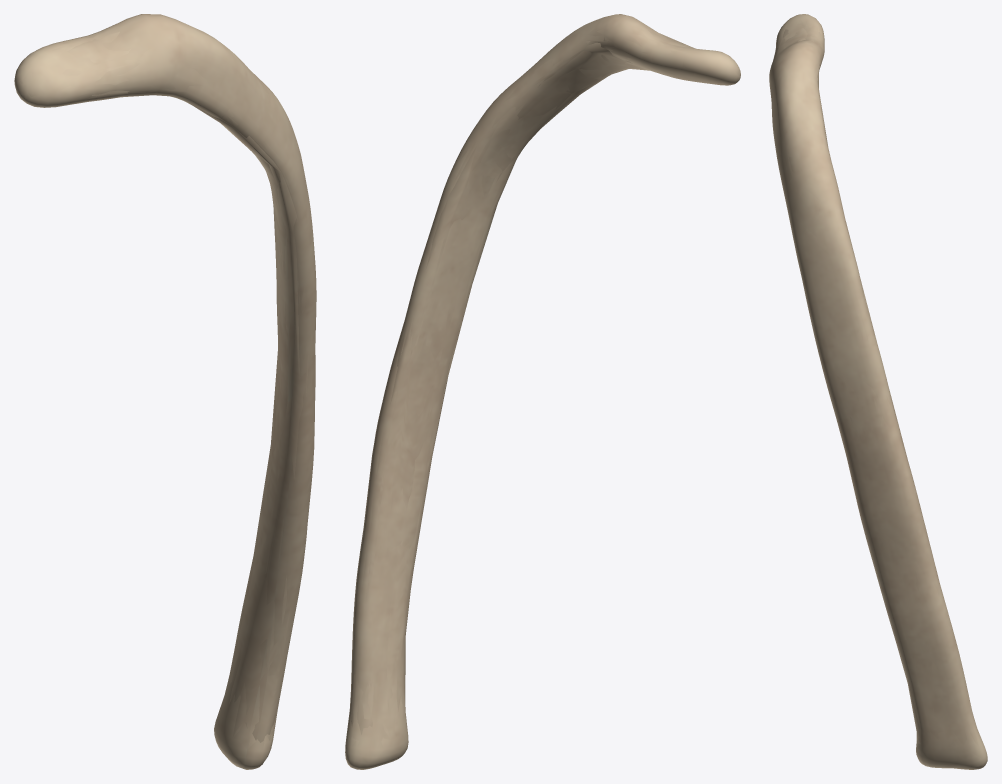
Rendered from Rib L04.fbx.
3 views of the same model, side by side, from view 1: azimuth 30°, elevation 25°; view 2: azimuth 150°, elevation 25°; view 3: azimuth 270°, elevation 25° (orthographic). The views are drawn at different scales.
Parts seen in each view (by area): view 1: Rib L04, Rib L04 high, Rib L04 low; view 2: Rib L04, Rib L04 high, Rib L04 low; view 3: Rib L04 high, Rib L04, Rib L04 low.
Boxes of the visible parts, box(x1,y1,x2,y2) form: Rib L04: box(14, 14, 315, 769); Rib L04 high: box(15, 14, 316, 769); Rib L04 low: box(62, 31, 308, 742); Rib L04: box(345, 14, 740, 769); Rib L04 high: box(345, 14, 740, 768); Rib L04 low: box(349, 30, 692, 734); Rib L04 high: box(770, 14, 986, 769); Rib L04: box(769, 14, 987, 769); Rib L04 low: box(773, 28, 978, 740).
Bounding box in the file's own units: 8.94 × 20.4 × 6.19.
